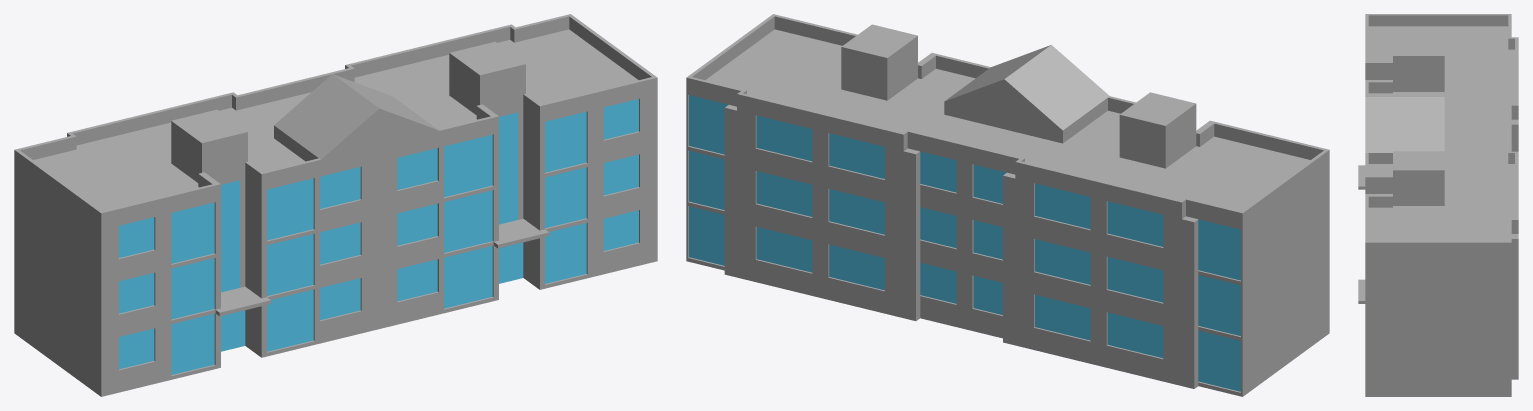
Rendered from InternationalHouse.glb.
3 renders of one model, left to right at view 1: azimuth 30°, elevation 25°; view 2: azimuth 150°, elevation 25°; view 3: azimuth 270°, elevation 25°, orthographic. The views are drawn at different scales.
Parts seen in each view (by area): view 1: Main, Window; view 2: Main, Window; view 3: Main.
Part boxes in pixels (box(x1,y1,x2,y2)): Main: box(14, 14, 657, 396); Window: box(119, 99, 638, 374); Main: box(686, 14, 1329, 396); Window: box(689, 95, 1240, 391); Main: box(1358, 14, 1518, 396).
Bounding box in the file's own units: 31.4 × 11.9 × 9.3.
